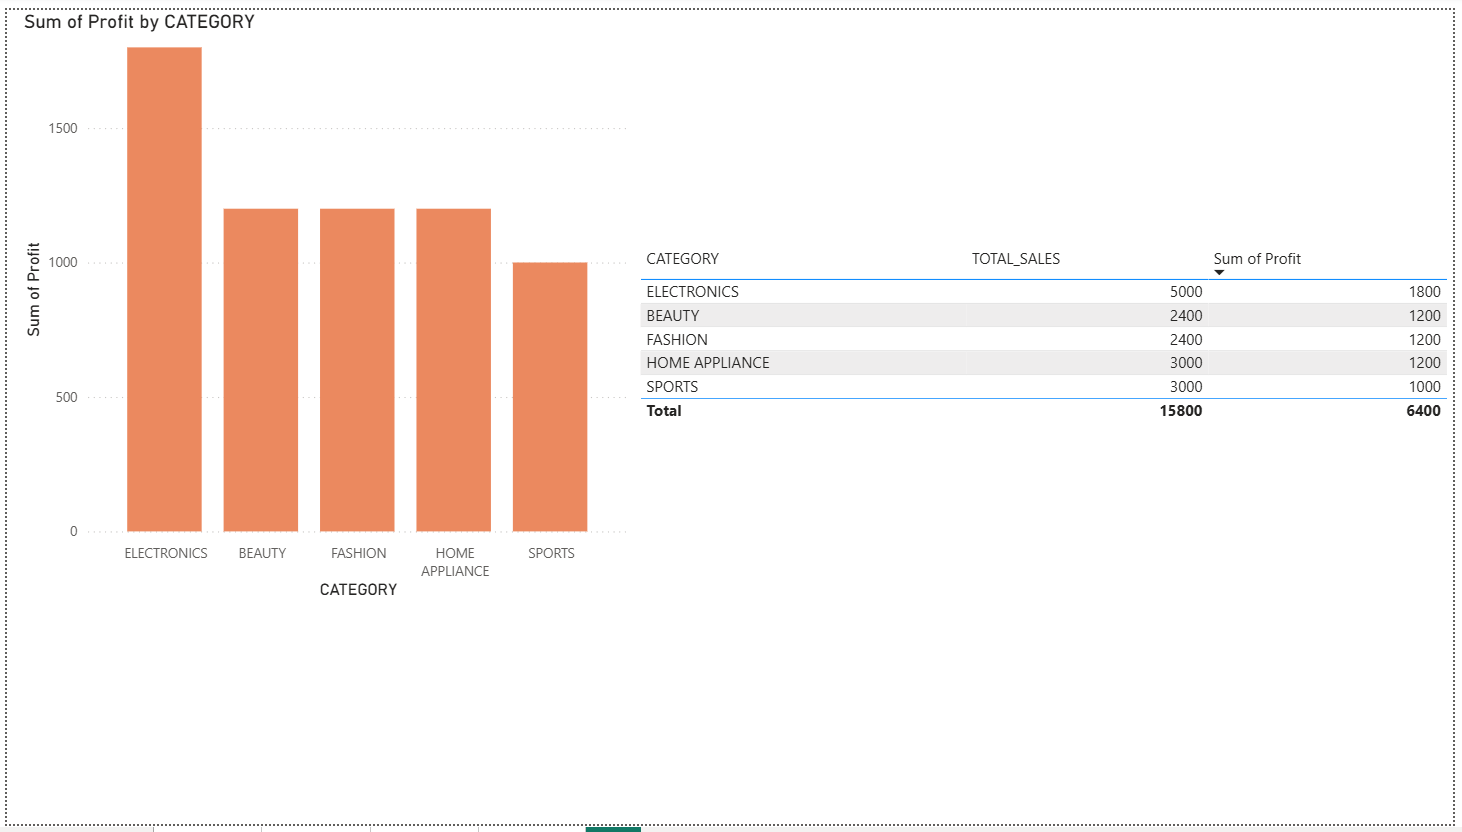

What the dashboard file says about the page in this screenshot:
{"tool":"powerbi","page":{"name":"Page 2","canvas":[1280,720],"ordinal":1},"visuals":[{"type":"clusteredColumnChart","fields":{"Category":["PRODUCTS.CATEGORY"],"Y":["Sum(ORDERS.Profit)"]},"box":[9.7,0,545.1,525.7],"z":0},{"type":"tableEx","fields":{"Values":["PRODUCTS.CATEGORY","CUSTOMERS.TOTAL_SALES","Sum(ORDERS.Profit)"]},"box":[554.8,204.8,725,182.6],"z":1000}]}

Visuals, with their boxes in screenshot pixels (x1, y1, x2, y2), scaled from the page's 1280x720 canvas onto the 1462x832 screenshot:
clusteredColumnChart - PRODUCTS.CATEGORY x Sum(ORDERS.Profit): 11, 0, 634, 607
tableEx - PRODUCTS.CATEGORY x CUSTOMERS.TOTAL_SALES: 634, 237, 1461, 448
